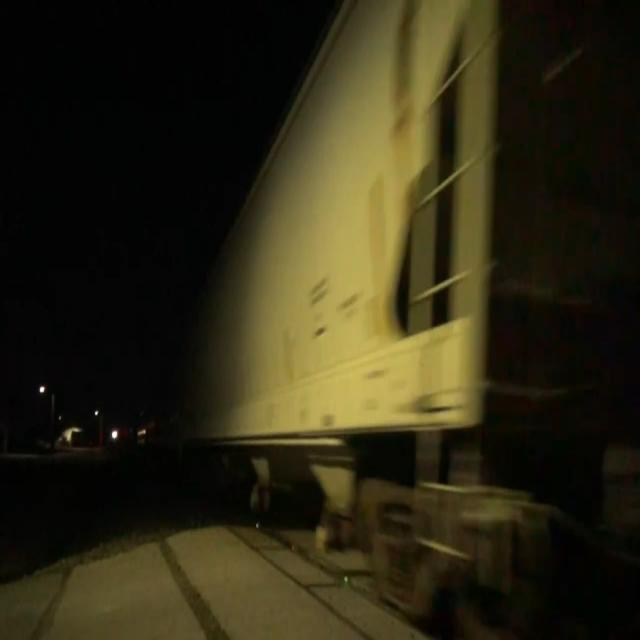hopper: (168, 0, 628, 640)
